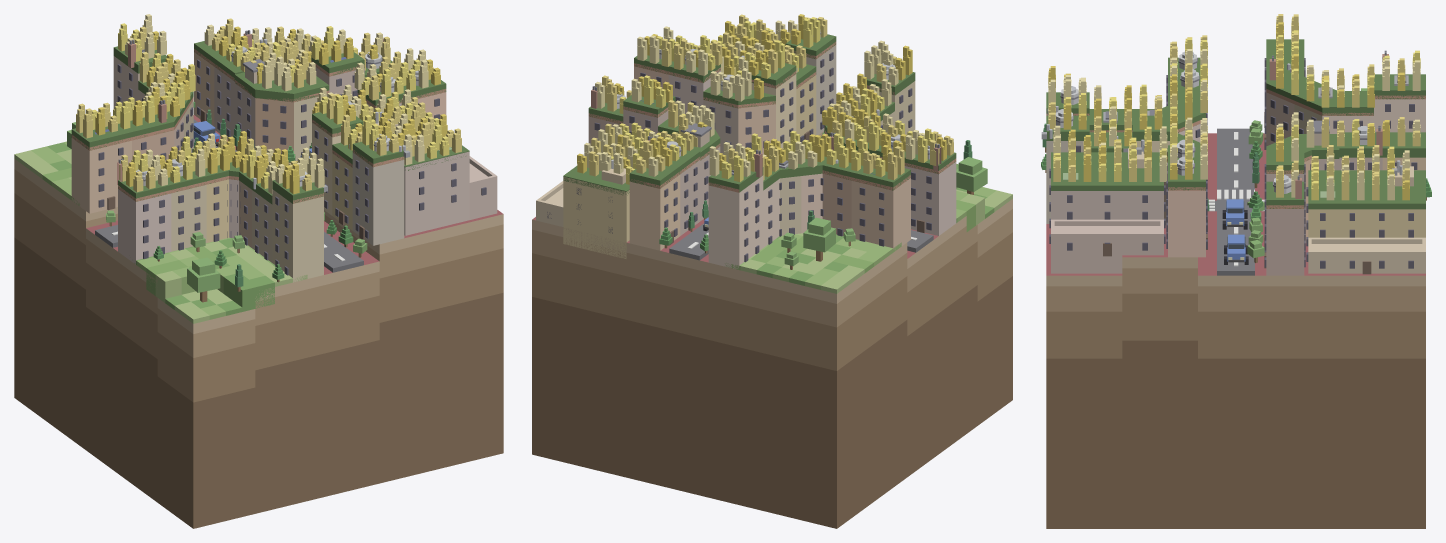
File: block_19_urbanfarm_55.glb
3 renders of one model, left to right at view 1: azimuth 30°, elevation 25°; view 2: azimuth 150°, elevation 25°; view 3: azimuth 270°, elevation 25°, orthographic. The views are drawn at different scales.
Visible parts, largest first — view 1: Patch_MidRight_b19_UF, Cerda_MidRight_b19_UF, Green_MidRight_b19_UF, UFR_Cerda_MidRight_b19_UF, Insets_MidRight_b19_UF, CerdaRoofProps_MidRight_b19_UF, Roads_MidRight_b19_UF, Asset_Tree_Round.077_UF; view 2: Patch_MidRight_b19_UF, Cerda_MidRight_b19_UF, UFR_Cerda_MidRight_b19_UF, Green_MidRight_b19_UF, Insets_MidRight_b19_UF, CerdaRoofProps_MidRight_b19_UF, Roads_MidRight_b19_UF, Asset_Tree_Round.065_UF, Asset_Tree_Round.077_UF, UFR_Insets_MidRight_b19_UF; view 3: Patch_MidRight_b19_UF, Insets_MidRight_b19_UF, Cerda_MidRight_b19_UF, UFR_Cerda_MidRight_b19_UF, UFR_Insets_MidRight_b19_UF, Roads_MidRight_b19_UF, CerdaRoofProps_MidRight_b19_UF, Asset_Car.041_UF, Asset_Car.042_UF.
Part boxes in pixels (x1=…): Patch_MidRight_b19_UF: x1=14, y1=115, x2=503, y2=528; Cerda_MidRight_b19_UF: x1=71, y1=49, x2=446, y2=282; Green_MidRight_b19_UF: x1=14, y1=141, x2=307, y2=323; UFR_Cerda_MidRight_b19_UF: x1=71, y1=41, x2=446, y2=204; Insets_MidRight_b19_UF: x1=375, y1=119, x2=497, y2=235; CerdaRoofProps_MidRight_b19_UF: x1=94, y1=30, x2=418, y2=192; Roads_MidRight_b19_UF: x1=95, y1=119, x2=363, y2=272; Asset_Tree_Round.077_UF: x1=187, y1=257, x2=220, y2=302; Patch_MidRight_b19_UF: x1=532, y1=131, x2=1012, y2=528; Cerda_MidRight_b19_UF: x1=588, y1=42, x2=956, y2=268; UFR_Cerda_MidRight_b19_UF: x1=588, y1=34, x2=956, y2=192; Green_MidRight_b19_UF: x1=725, y1=164, x2=1012, y2=293; Insets_MidRight_b19_UF: x1=536, y1=168, x2=632, y2=258; CerdaRoofProps_MidRight_b19_UF: x1=591, y1=30, x2=941, y2=177; Roads_MidRight_b19_UF: x1=669, y1=223, x2=933, y2=260; Asset_Tree_Round.065_UF: x1=803, y1=217, x2=835, y2=261; Asset_Tree_Round.077_UF: x1=956, y1=157, x2=987, y2=194; UFR_Insets_MidRight_b19_UF: x1=563, y1=166, x2=629, y2=195; Patch_MidRight_b19_UF: x1=1046, y1=133, x2=1425, y2=528; Insets_MidRight_b19_UF: x1=1049, y1=148, x2=1425, y2=274; Cerda_MidRight_b19_UF: x1=1046, y1=58, x2=1425, y2=275; UFR_Cerda_MidRight_b19_UF: x1=1046, y1=39, x2=1425, y2=208; UFR_Insets_MidRight_b19_UF: x1=1051, y1=152, x2=1425, y2=209; Roads_MidRight_b19_UF: x1=1209, y1=128, x2=1254, y2=275; CerdaRoofProps_MidRight_b19_UF: x1=1041, y1=50, x2=1408, y2=198; Asset_Car.041_UF: x1=1222, y1=199, x2=1247, y2=229; Asset_Car.042_UF: x1=1224, y1=234, x2=1248, y2=264.
Size of the model in its own units: 9.51 by 10.35 by 9.78.
